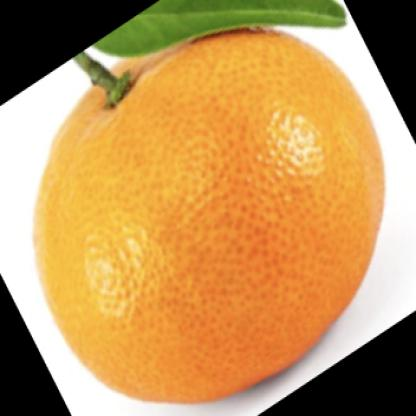orange: (38, 27, 386, 407)
